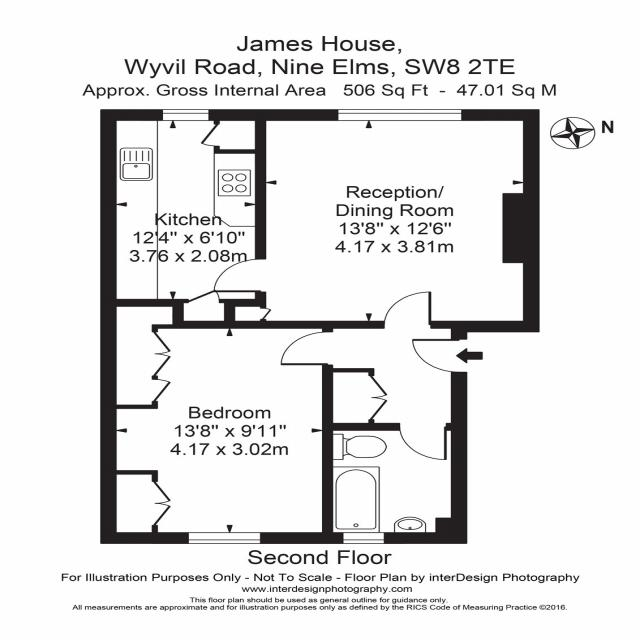DOOR: (409, 337, 467, 374), (279, 330, 333, 367), (382, 290, 433, 329), (397, 423, 448, 461), (212, 258, 266, 293)
ROOM: (213, 109, 540, 332), (100, 299, 334, 544), (100, 109, 267, 329)
WINDOW: (337, 109, 463, 122), (187, 531, 262, 545), (162, 109, 210, 122), (343, 532, 385, 544)
